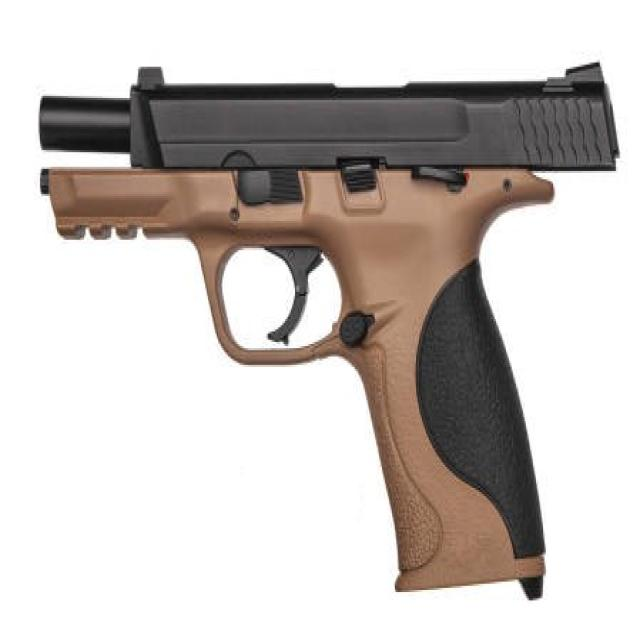pistol: (30, 49, 625, 613)
